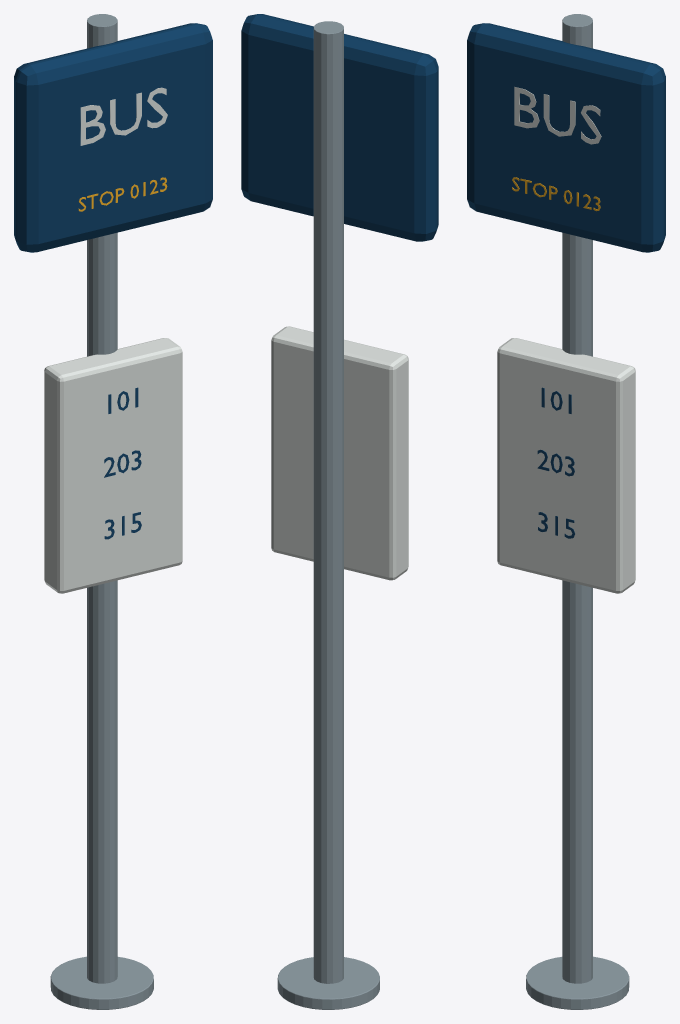
3 views of the same model, side by side, from view 1: azimuth 30°, elevation 25°; view 2: azimuth 150°, elevation 25°; view 3: azimuth 330°, elevation 25° (orthographic).
Visible parts, largest first — view 1: SIGN_Stop, ROUTE_Sleeve, POLE, MOUNT_Base, EDITABLE_Type, EDITABLE_Code; view 2: SIGN_Stop, POLE, ROUTE_Sleeve, MOUNT_Base; view 3: SIGN_Stop, ROUTE_Sleeve, POLE, MOUNT_Base, EDITABLE_Type, EDITABLE_Code.
Part boxes in pixels (x1=…): SIGN_Stop: x1=14, y1=23, x2=212, y2=252; ROUTE_Sleeve: x1=44, y1=338, x2=182, y2=593; POLE: x1=87, y1=14, x2=117, y2=983; MOUNT_Base: x1=50, y1=956, x2=153, y2=1009; EDITABLE_Type: x1=80, y1=87, x2=167, y2=145; EDITABLE_Code: x1=78, y1=177, x2=167, y2=211; SIGN_Stop: x1=241, y1=14, x2=438, y2=241; POLE: x1=313, y1=21, x2=343, y2=983; ROUTE_Sleeve: x1=271, y1=326, x2=408, y2=580; MOUNT_Base: x1=277, y1=957, x2=379, y2=1009; SIGN_Stop: x1=467, y1=23, x2=665, y2=252; ROUTE_Sleeve: x1=497, y1=338, x2=635, y2=593; POLE: x1=562, y1=14, x2=592, y2=983; MOUNT_Base: x1=526, y1=956, x2=629, y2=1009; EDITABLE_Type: x1=514, y1=86, x2=601, y2=144; EDITABLE_Code: x1=512, y1=177, x2=600, y2=211.
Bounding box in the file's own units: 0.65 × 3.1 × 0.3.
